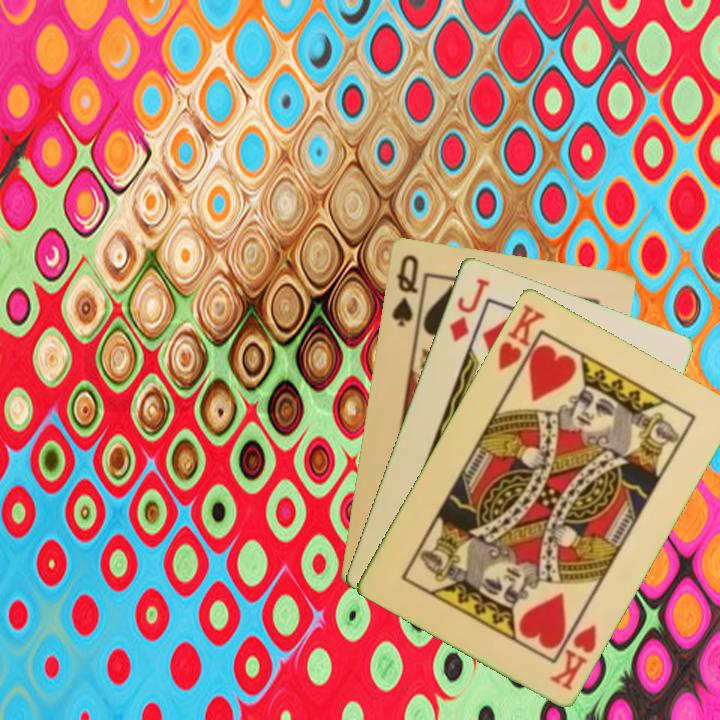Jd: (445, 274, 492, 345)
Kh: (494, 300, 548, 384), (546, 620, 600, 693)
Qs: (388, 250, 421, 329)
